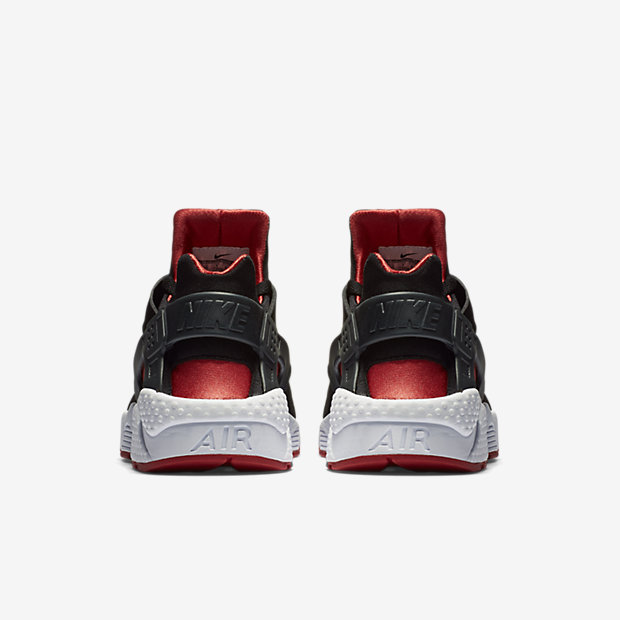Air Huarache Bred: (105, 194, 311, 488), (315, 195, 511, 494)
